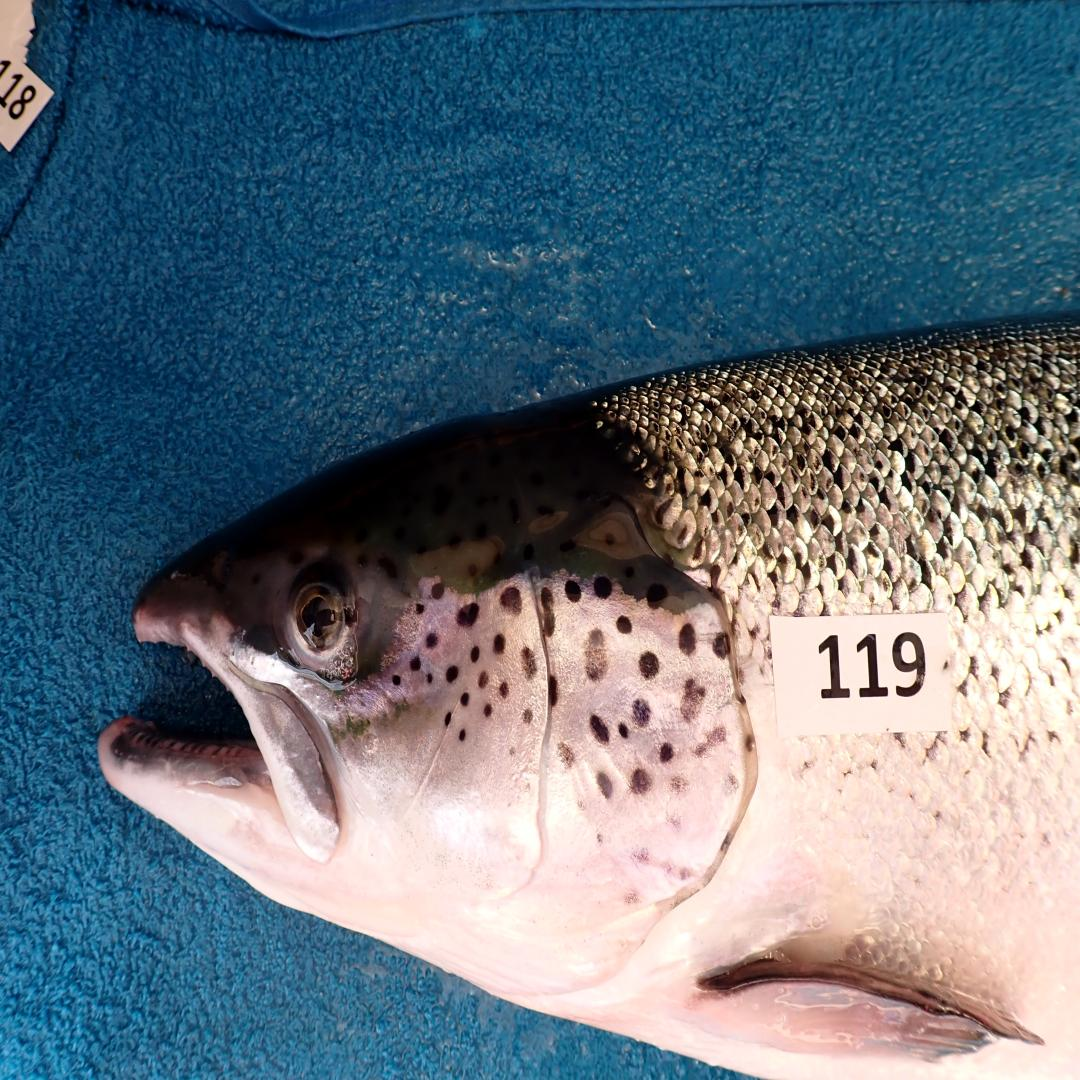roi: (336, 569, 751, 1007)
